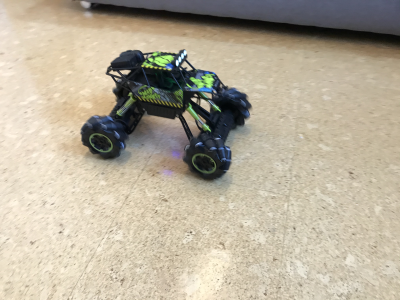remote control car: (77, 44, 255, 183)
